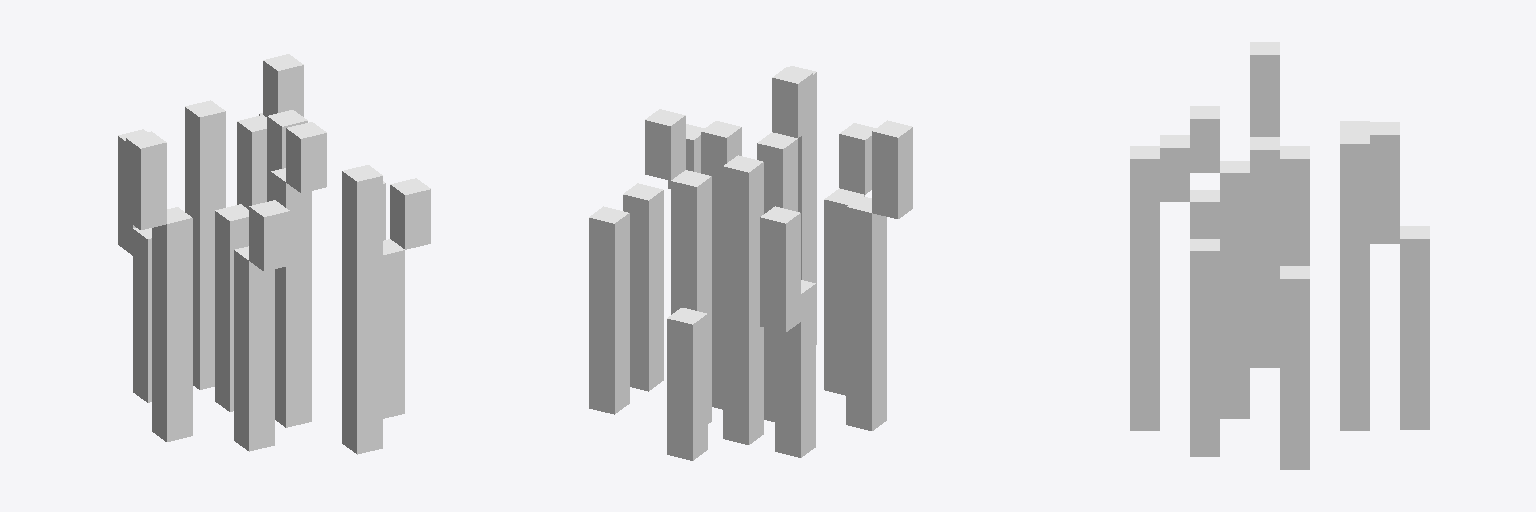
Rendered from trzciny.obj.
3 renders of one model, left to right at view 1: azimuth 30°, elevation 25°; view 2: azimuth 150°, elevation 25°; view 3: azimuth 270°, elevation 25°, orthographic.
Visible parts, largest first — view 1: object 1; view 2: object 1; view 3: object 1.
Boxes of the visible parts, x1,y1,x2,y2 form: object 1: [118, 54, 430, 454]; object 1: [589, 66, 912, 460]; object 1: [1130, 42, 1429, 469].
Size of the model in its own units: 1 by 1.1 by 1.